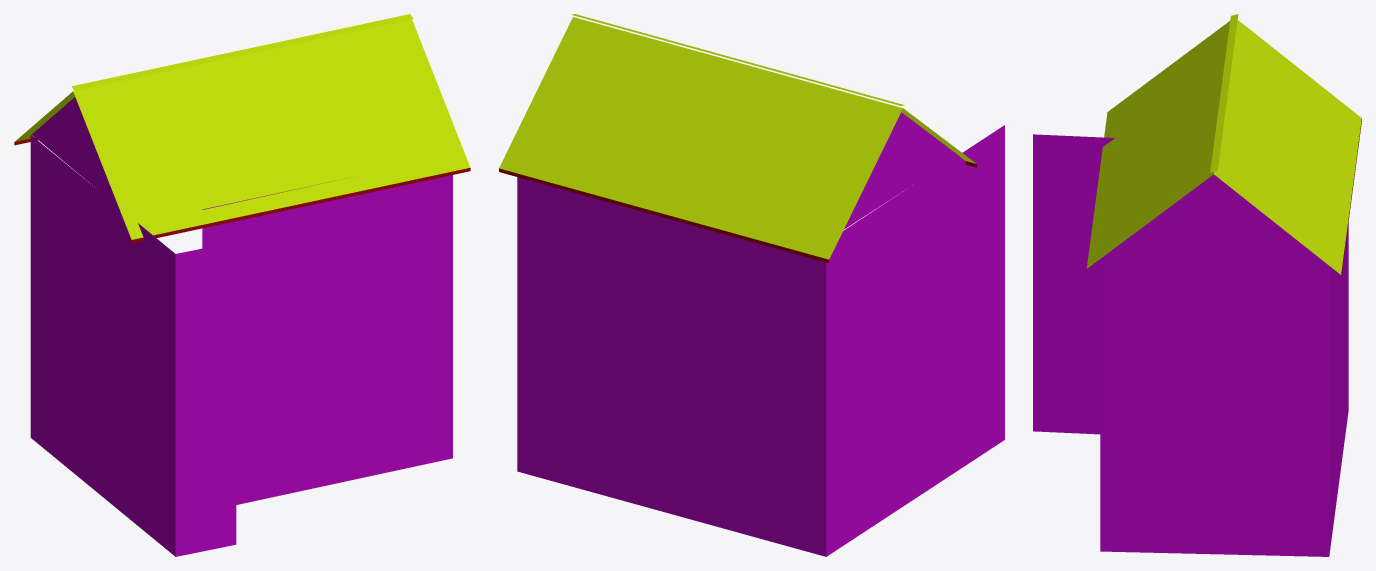
Rendered from bgj_264.glb.
3 views of the same model, side by side, from view 1: azimuth 30°, elevation 25°; view 2: azimuth 150°, elevation 25°; view 3: azimuth 270°, elevation 25° (orthographic). The views are drawn at different scales.
Visible parts, largest first — view 1: bgj_264; view 2: bgj_264; view 3: bgj_264.
Boxes of the visible parts, x1=… form: bgj_264: x1=14, y1=14, x2=470, y2=556; bgj_264: x1=499, y1=14, x2=1004, y2=556; bgj_264: x1=1033, y1=14, x2=1361, y2=556.
Size of the model in its own units: 12.29 by 13.66 by 10.48.
